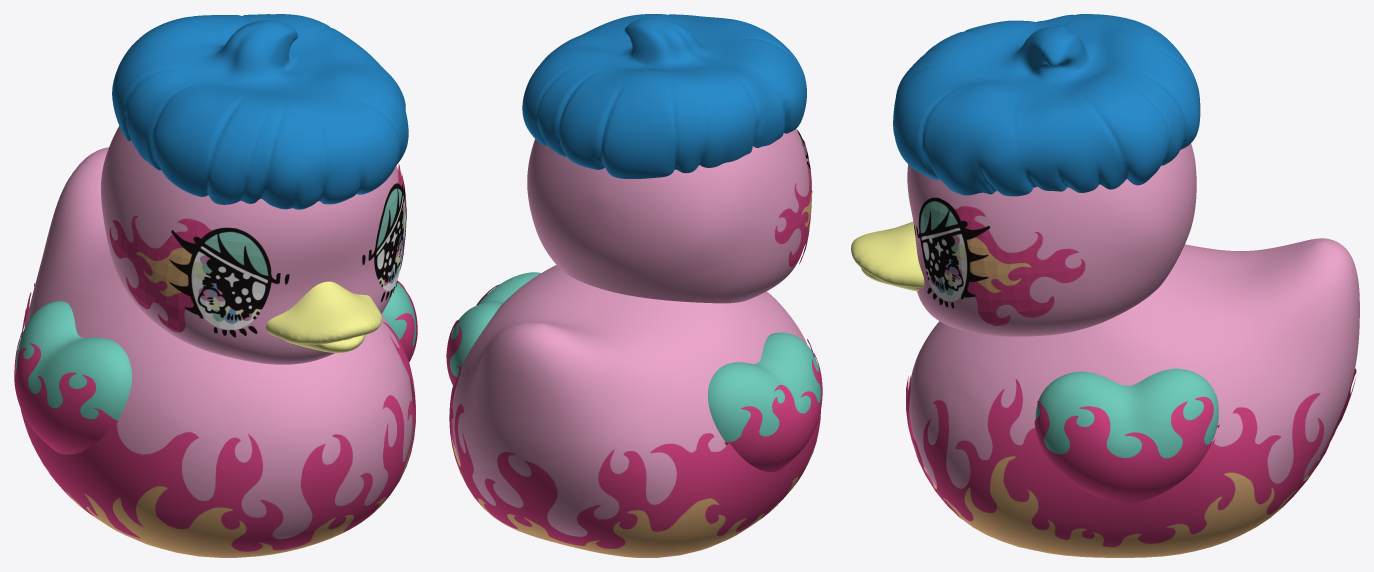
The picture shows the model from 3 angles, left to right: view 1: azimuth 30°, elevation 25°; view 2: azimuth 150°, elevation 25°; view 3: azimuth 270°, elevation 25°; orthographic projection. The views are drawn at different scales.
Parts seen in each view (by area): view 1: Torebi 5, H-01 1, 平面.001, Fix, 平面.002, Torebi 7, Torebi 3, 平面.004, Torebi 4, 平面.003; view 2: Torebi 5, H-01 1, Fix, 平面.001, Torebi 7, 平面.004, Torebi 4, 平面.002, 平面.003; view 3: Torebi 5, H-01 1, 平面.001, Fix, 平面.002, Torebi 4, 平面.003, Torebi 3.
Part boxes in pixels (x1,y1,x2,y2): Torebi 5: (26,147,412,539); H-01 1: (112,14,408,209); 平面.001: (20,283,415,557); Fix: (101,126,398,364); 平面.002: (109,164,406,337); Torebi 7: (15,301,131,420); Torebi 3: (266,281,382,352); 平面.004: (14,332,117,454); Torebi 4: (381,282,416,346); 平面.003: (395,280,417,362); Torebi 5: (452,265,807,536); H-01 1: (522,14,806,178); Fix: (527,128,809,303); 平面.001: (449,339,820,557); Torebi 7: (708,332,821,442); 平面.004: (724,353,822,471); Torebi 4: (450,272,540,376); 平面.002: (775,130,812,267); 平面.003: (446,285,498,384); Torebi 5: (909,238,1359,488); H-01 1: (893,14,1200,196); 平面.001: (906,368,1356,557); Fix: (907,143,1196,336); 平面.002: (914,197,1085,325); Torebi 4: (1035,368,1218,458); 平面.003: (1034,397,1219,503); Torebi 3: (851,221,924,291).
Bounding box in the file's own units: 50.64 × 64.91 × 61.84.
8 materials, 3 textured.
